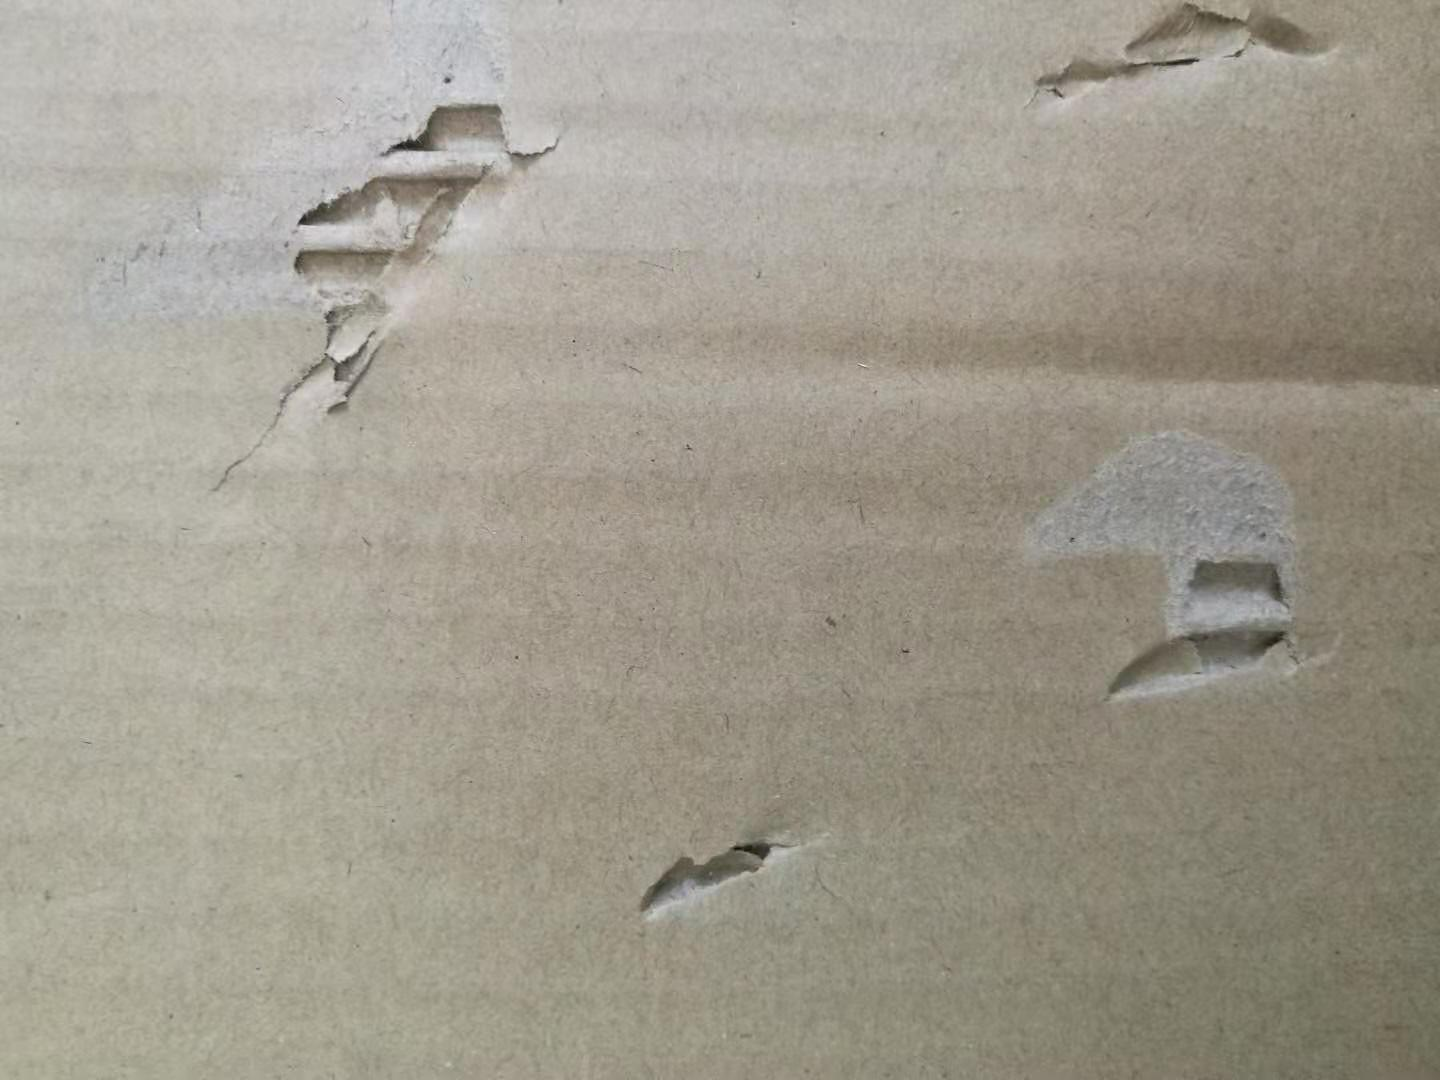defect: (36, 1, 615, 516), (994, 400, 1387, 741), (1003, 1, 1394, 140), (609, 795, 869, 936)
